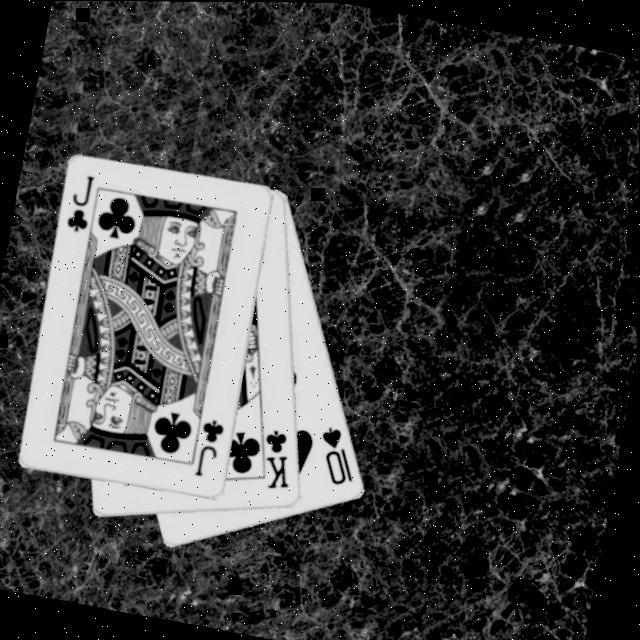10S: (310, 422, 364, 491)
JC: (190, 414, 229, 482), (60, 170, 99, 237)
KC: (246, 420, 302, 495)
